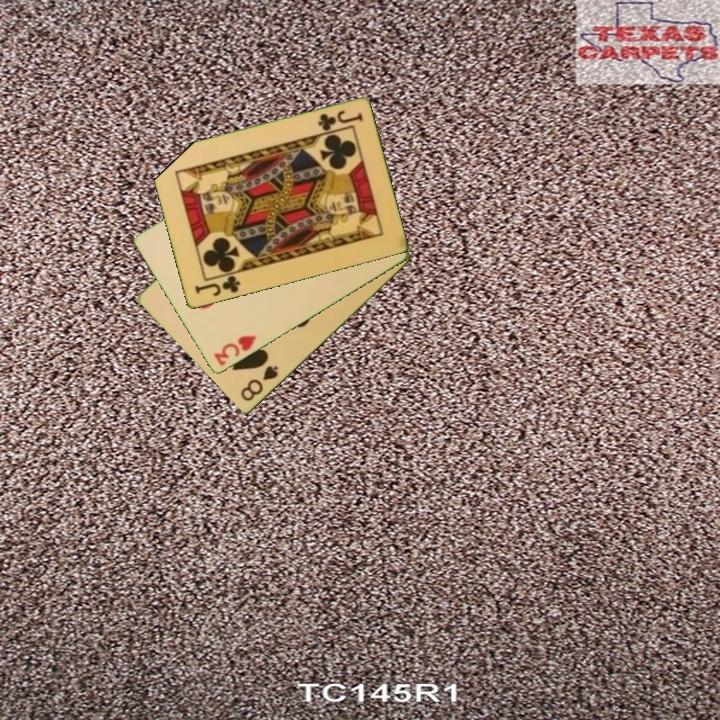3h: (210, 332, 259, 369)
8s: (237, 362, 281, 405)
Jc: (191, 272, 243, 300), (314, 107, 366, 134)
